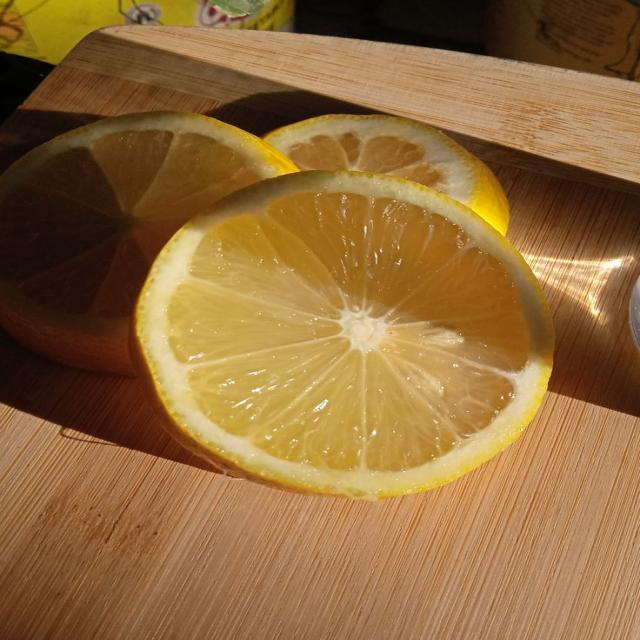lemon: (135, 171, 553, 498), (0, 113, 296, 373), (265, 115, 509, 234)
